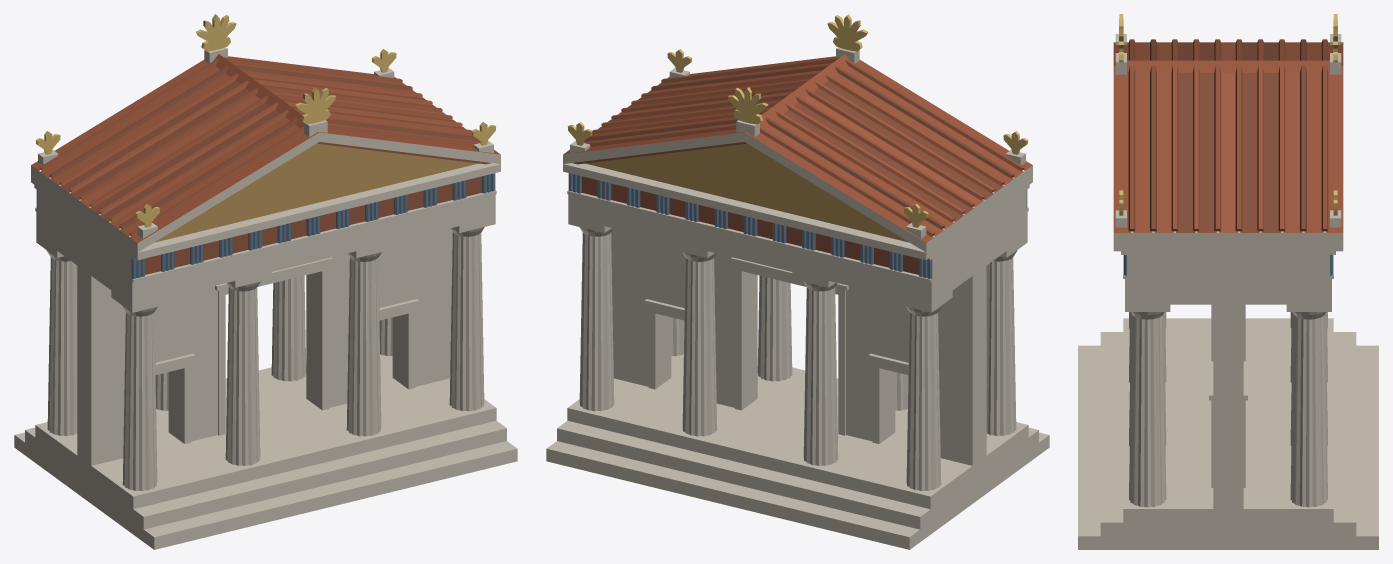
The model's file is propylon-gateway-8ce9dd.glb.
3 views of the same model, side by side, from view 1: azimuth 30°, elevation 25°; view 2: azimuth 150°, elevation 25°; view 3: azimuth 270°, elevation 25° (orthographic). The views are drawn at different scales.
Parts seen in each view (by area): view 1: propylon-stone, propylon-gilt; view 2: propylon-stone, propylon-gilt; view 3: propylon-stone, propylon-gilt.
Boxes of the visible parts, x1,y1,x2,y2 form: propylon-stone: [14, 47, 517, 549]; propylon-gilt: [36, 14, 496, 227]; propylon-stone: [546, 47, 1049, 549]; propylon-gilt: [567, 14, 1027, 227]; propylon-stone: [1078, 34, 1378, 549]; propylon-gilt: [1119, 14, 1337, 215].
Size of the model in its own units: 12 by 12.73 by 8.
